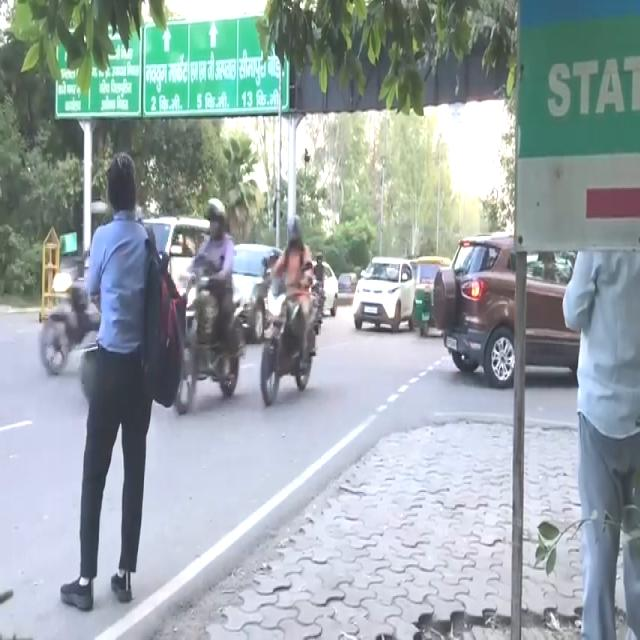MOTORCYCLE: (169, 263, 243, 399), (258, 277, 325, 403)
SUV: (439, 230, 595, 387)
